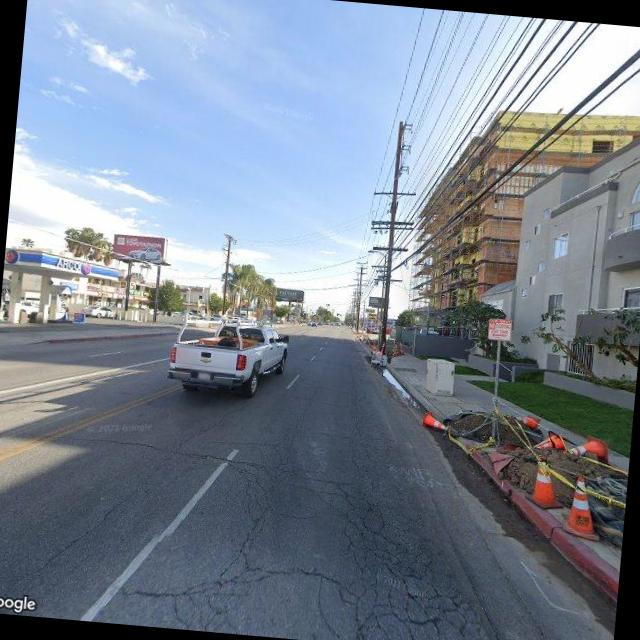crack: (169, 392, 541, 640), (3, 442, 166, 597), (37, 414, 241, 480)
